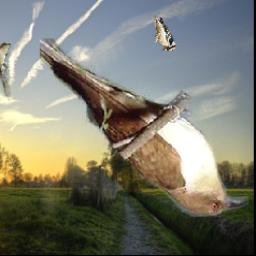Cuckoo: (40, 39, 248, 218), (0, 43, 11, 102)
Woodpecker: (155, 15, 177, 51)
